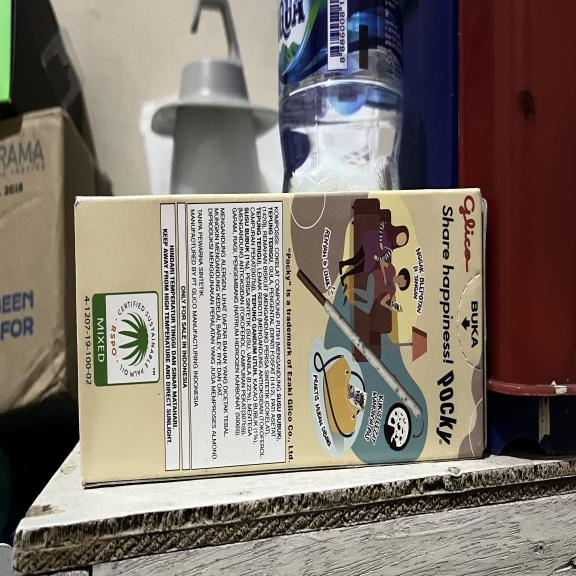Kertas: (74, 189, 487, 486)
